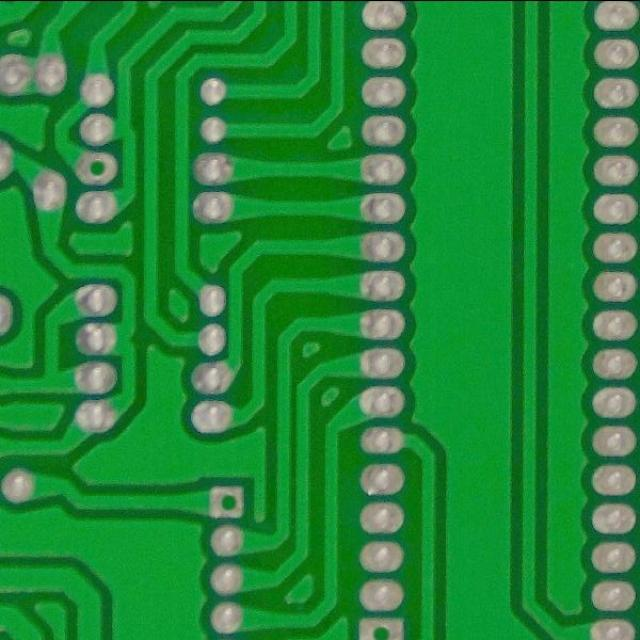Missing_Hole: (68, 145, 123, 190), (203, 481, 250, 523), (351, 609, 410, 640)
